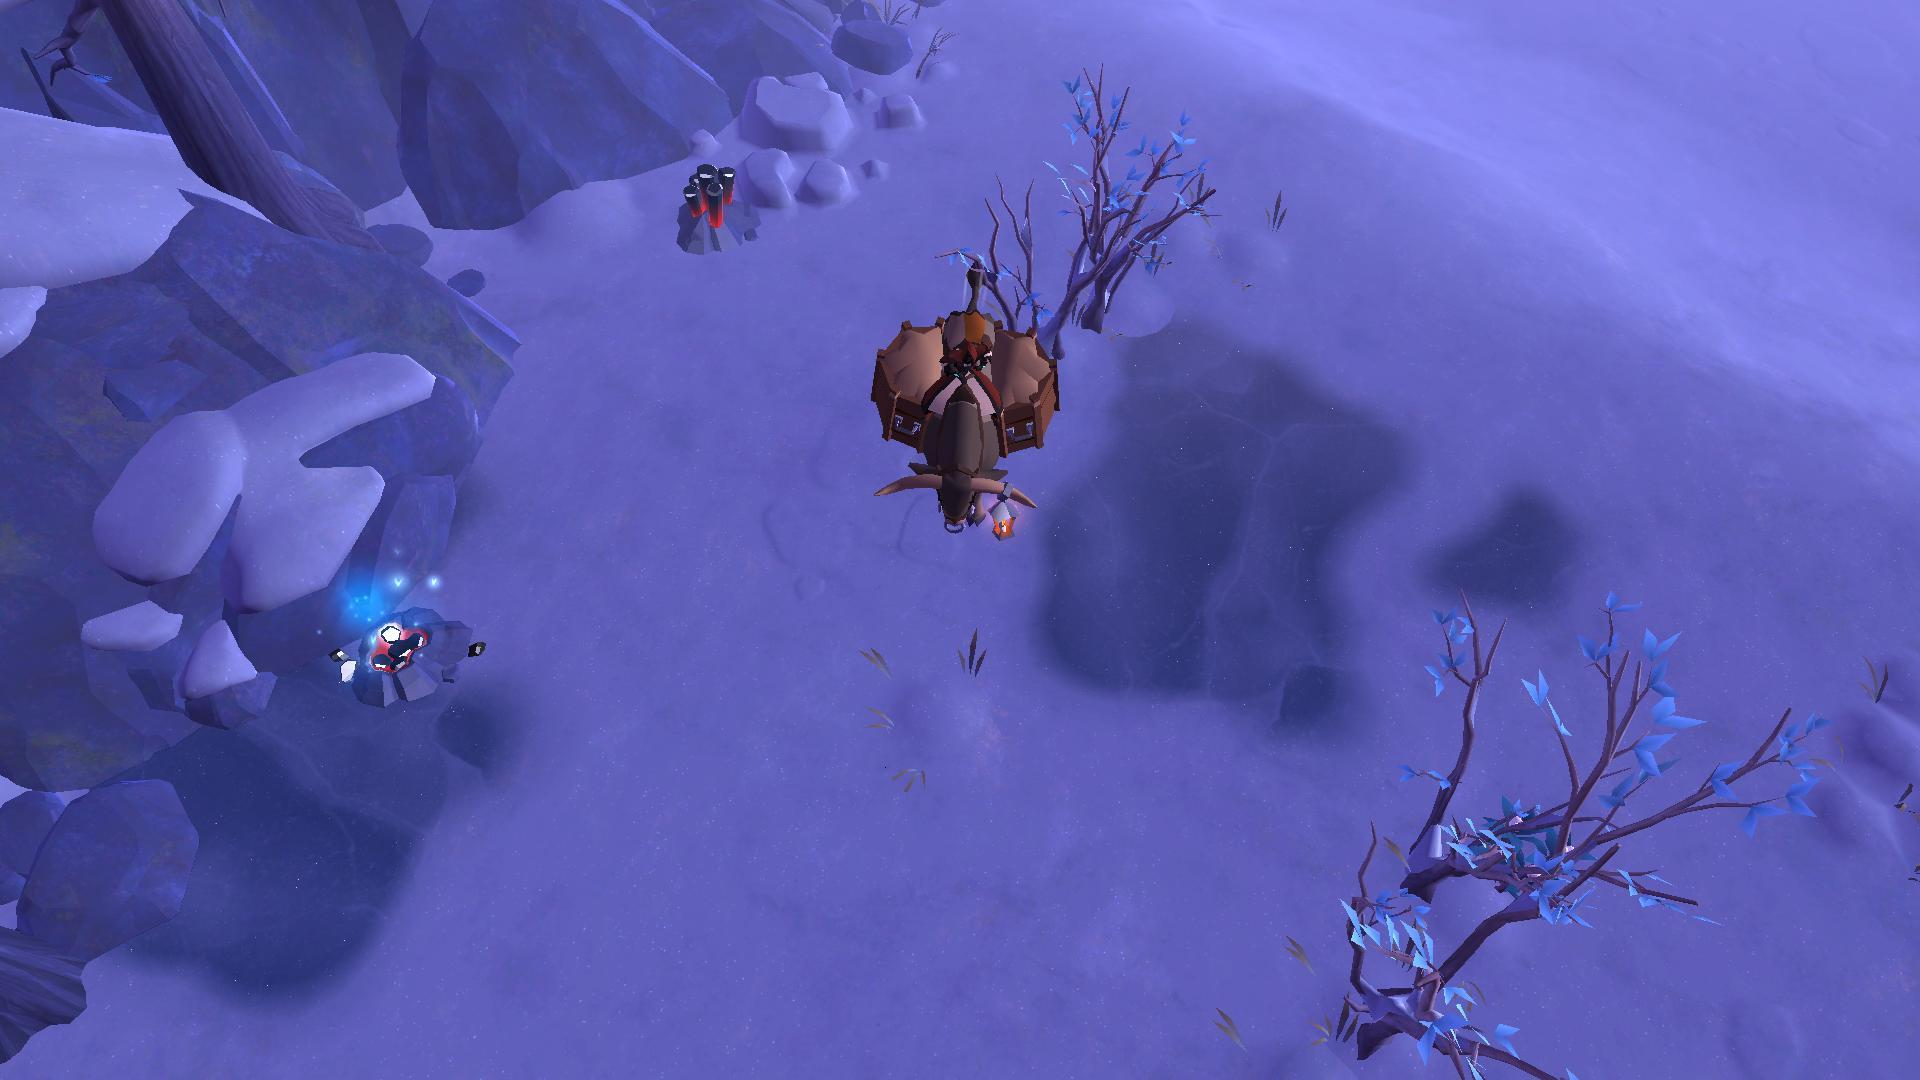ore_t5: (674, 156, 741, 227)
